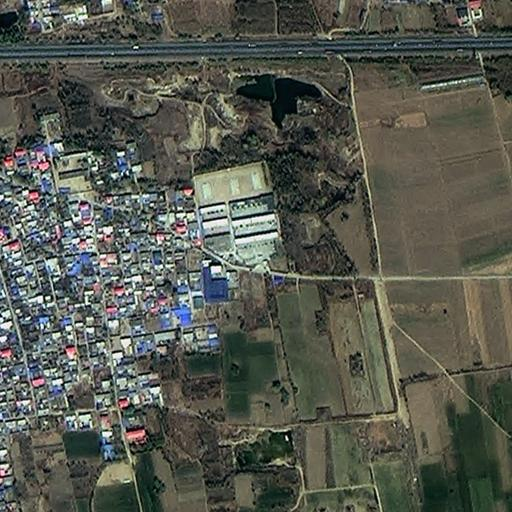school: (191, 157, 284, 259)
